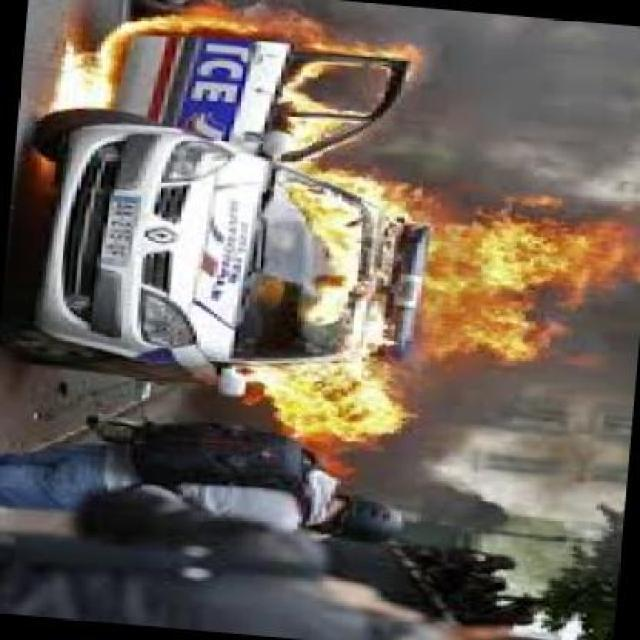Fire: (428, 190, 640, 368), (264, 11, 428, 146), (234, 351, 432, 451), (280, 168, 414, 278), (27, 5, 152, 106)
Smoke: (448, 11, 640, 189), (445, 371, 638, 522)
